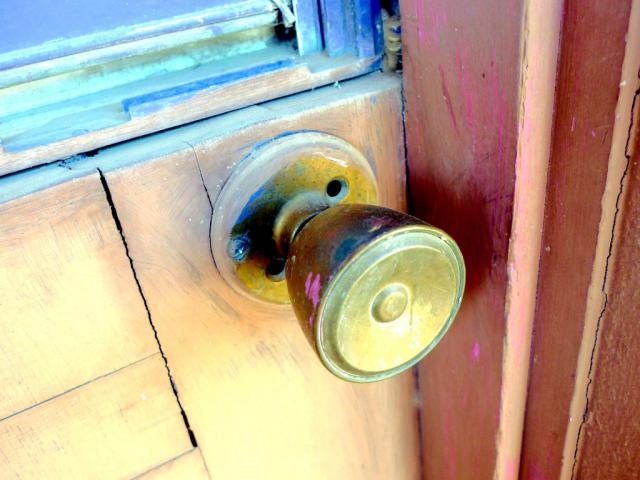Door-handle: (206, 130, 474, 388)
